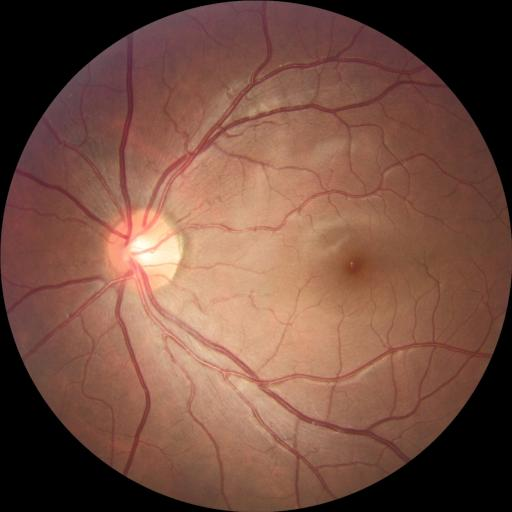Optic Cup: (124, 238, 153, 268)
Optic Disc: (106, 208, 184, 290)
